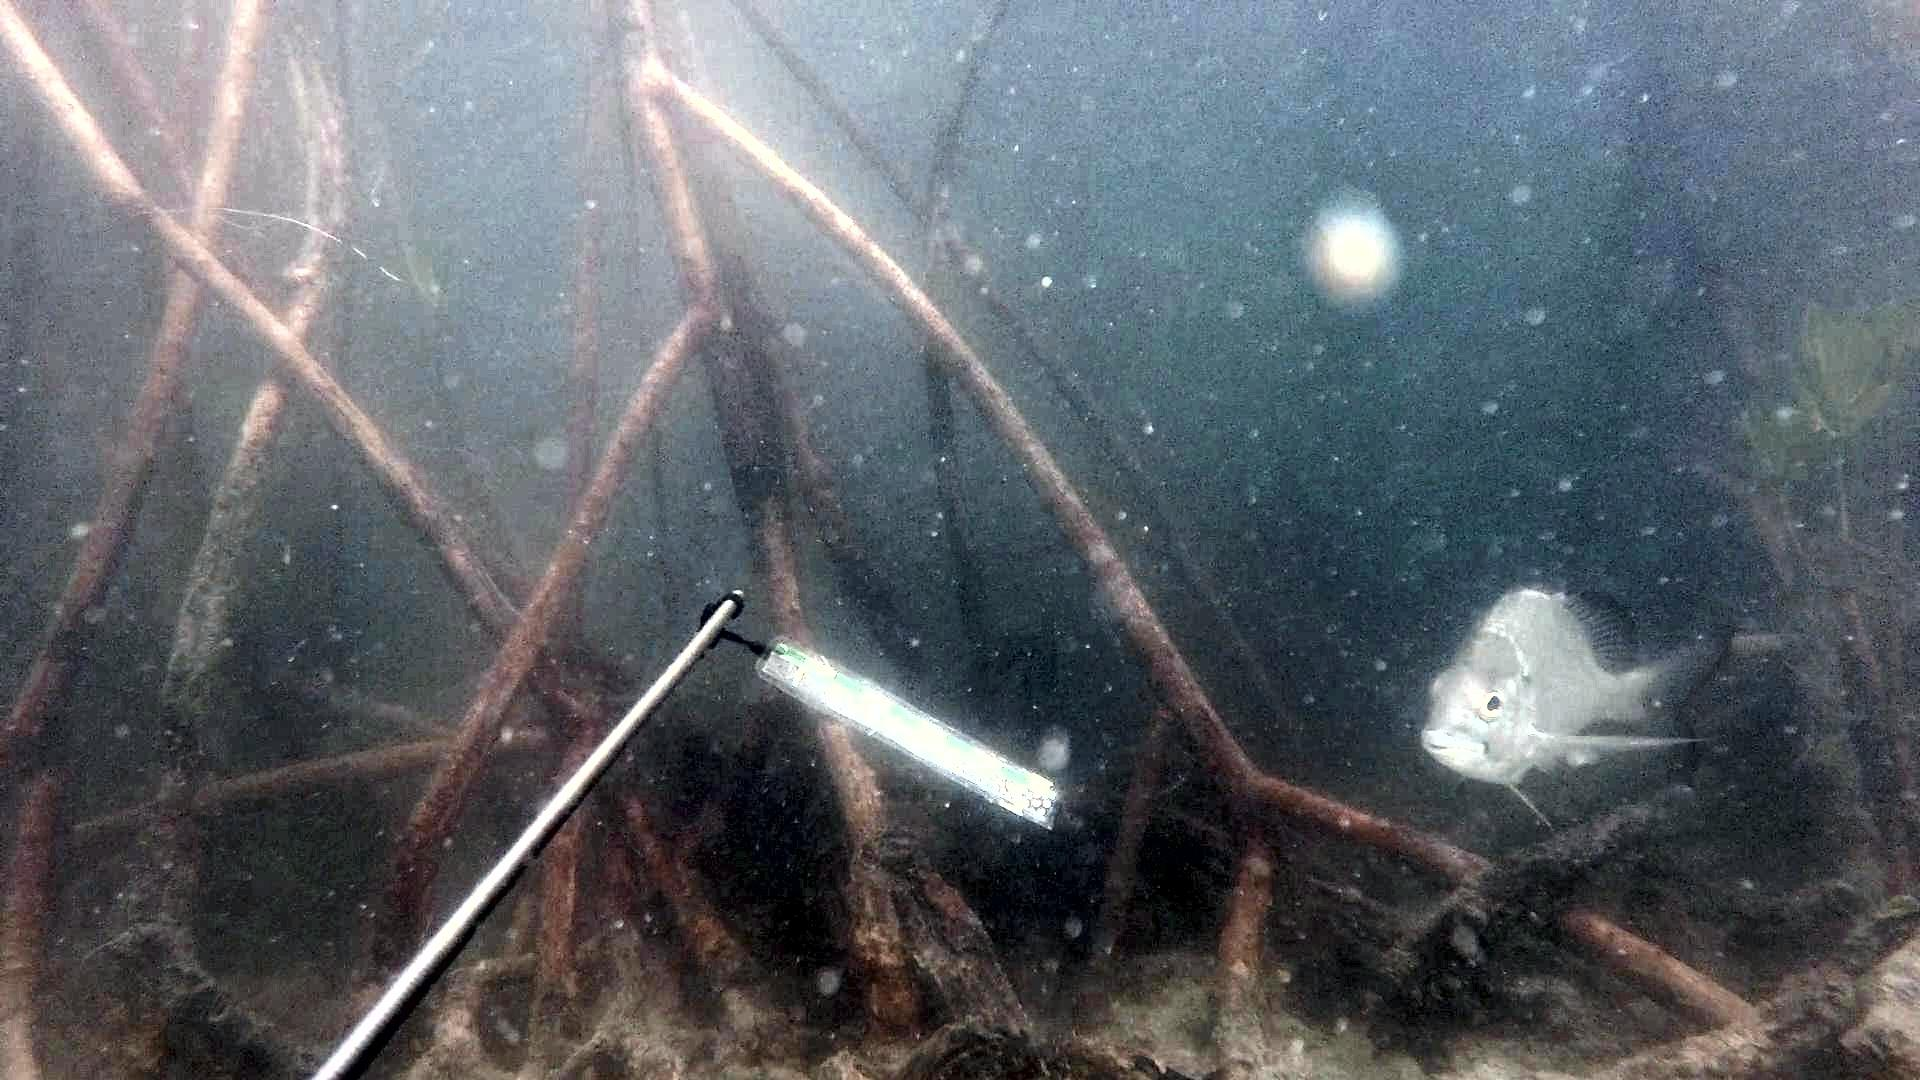acanthopagrus palmaris: (1410, 572, 1738, 848)
